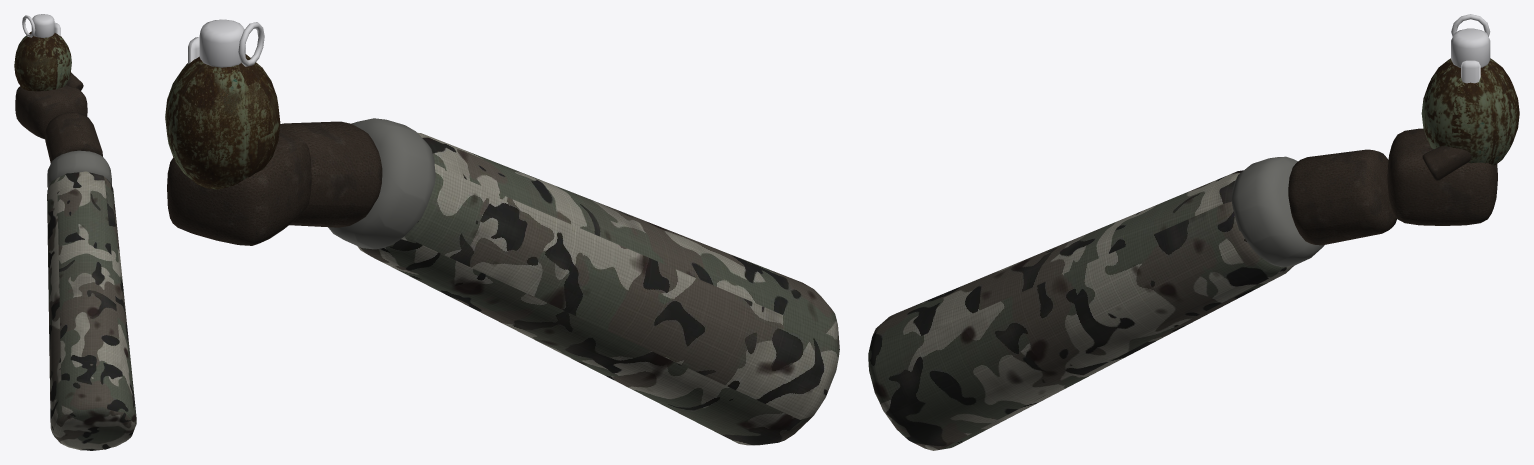
The model's file is vm_grenade_hand.glb.
3 views of the same model, side by side, from view 1: azimuth 30°, elevation 25°; view 2: azimuth 150°, elevation 25°; view 3: azimuth 270°, elevation 25° (orthographic). The views are drawn at different scales.
Visible parts, largest first — view 1: Forearm, NadeBody, Fist, Wrist, Cuff, Fuze, Thumb, Pin; view 2: Forearm, NadeBody, Fist, Wrist, Cuff, Fuze; view 3: Forearm, Wrist, NadeBody, Fist, Cuff, Fuze, Thumb.
Part boxes in pixels (x1=…): Forearm: x1=47, y1=171, x2=136, y2=450; NadeBody: x1=14, y1=31, x2=71, y2=91; Fist: x1=15, y1=85, x2=87, y2=139; Wrist: x1=44, y1=112, x2=102, y2=163; Cuff: x1=47, y1=150, x2=111, y2=188; Fuze: x1=31, y1=14, x2=54, y2=37; Thumb: x1=66, y1=72, x2=83, y2=90; Pin: x1=22, y1=15, x2=35, y2=37; Forearm: x1=357, y1=132, x2=839, y2=445; NadeBody: x1=165, y1=54, x2=280, y2=189; Fist: x1=167, y1=131, x2=311, y2=245; Wrist: x1=279, y1=121, x2=382, y2=227; Cuff: x1=328, y1=118, x2=435, y2=249; Fuze: x1=199, y1=19, x2=245, y2=67; Forearm: x1=868, y1=170, x2=1293, y2=450; Wrist: x1=1288, y1=149, x2=1396, y2=245; NadeBody: x1=1421, y1=58, x2=1519, y2=165; Fist: x1=1387, y1=128, x2=1497, y2=225; Cuff: x1=1232, y1=156, x2=1324, y2=267; Fuze: x1=1451, y1=28, x2=1490, y2=67; Thumb: x1=1422, y1=146, x2=1471, y2=180.
Size of the model in its own units: 0.2446 by 0.3978 by 0.4651.
Materials: 5 (3 with a texture image).
